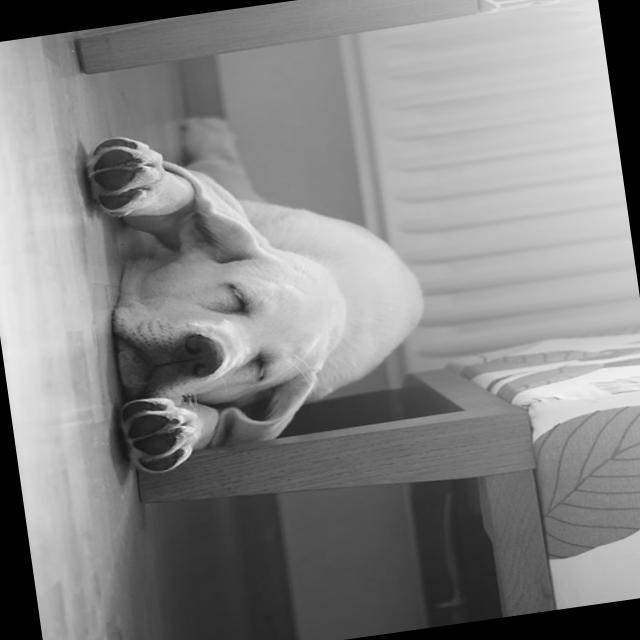laying down: (67, 84, 450, 482)
